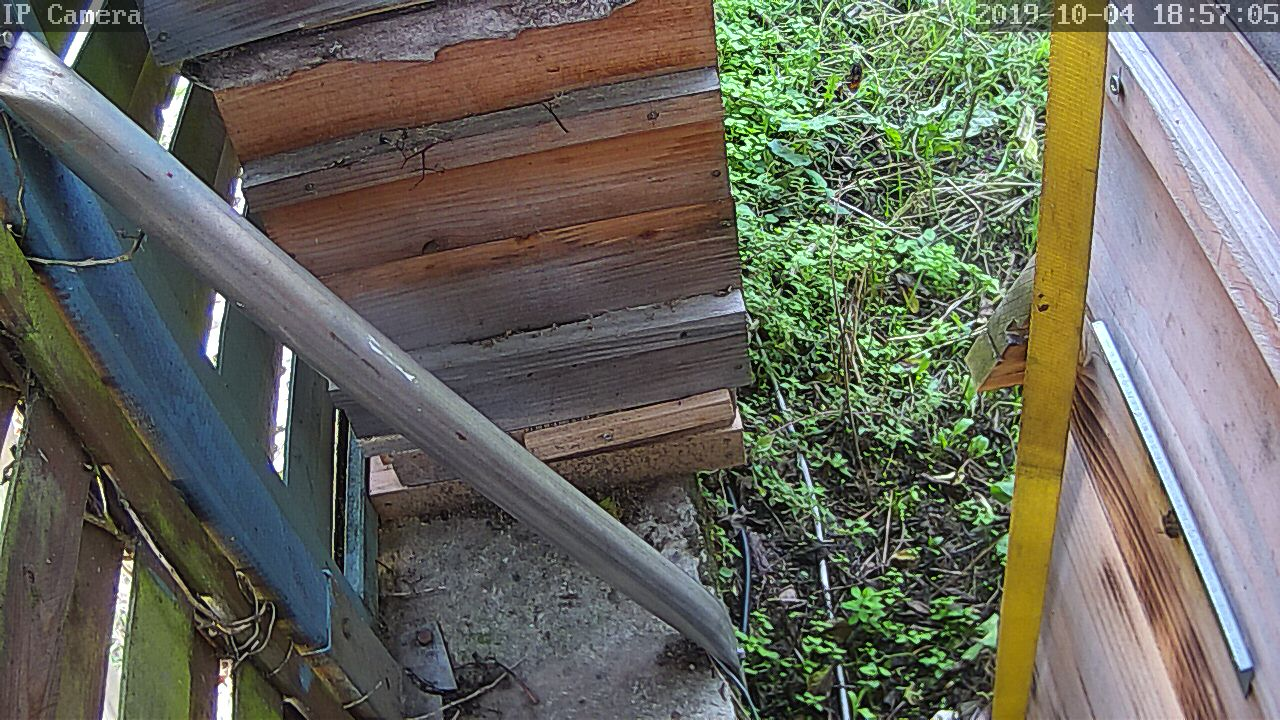bee: (1157, 508, 1190, 551)
hornet: (837, 51, 874, 98)
